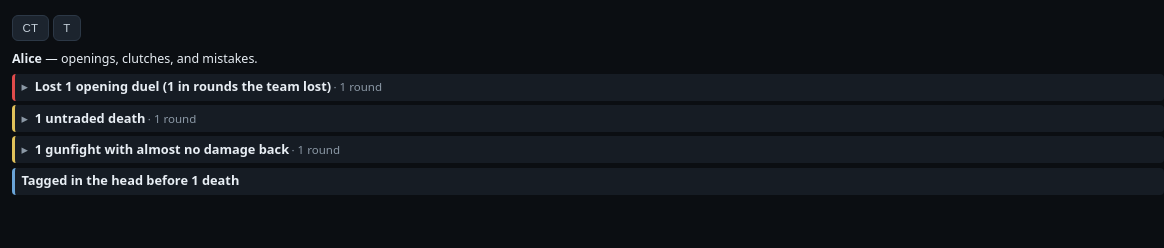
Review › includes killing-blow hitgroup on a death note
Expected: the text "Tagged in the head before 1 death" is shown, [21,171,239,189]
Click the heading "Lost 1 opening duel (1 in rounds the team lost) · 1 round". click: {"x": 208, "y": 86}
box: [35,77,382,95]
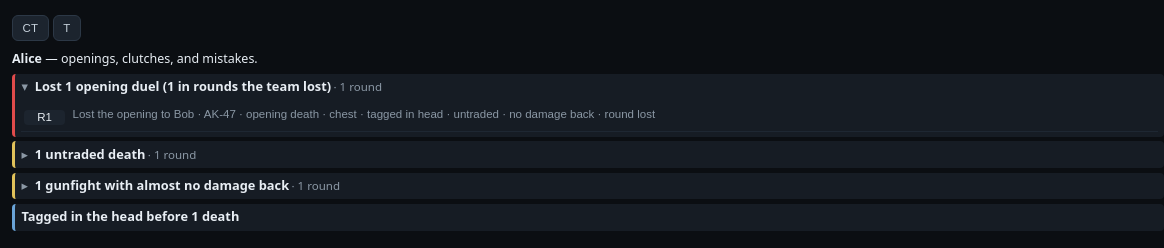
Expected: the text "chest · tagged in head" is shown, [73,108,655,120]
